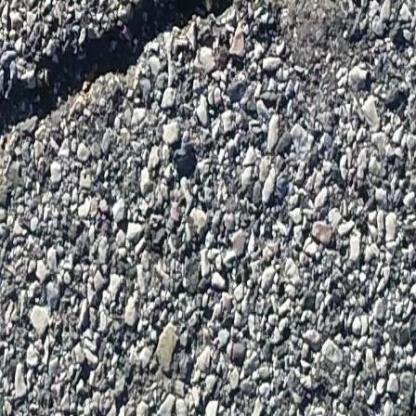Cracks: (1, 0, 255, 146)
